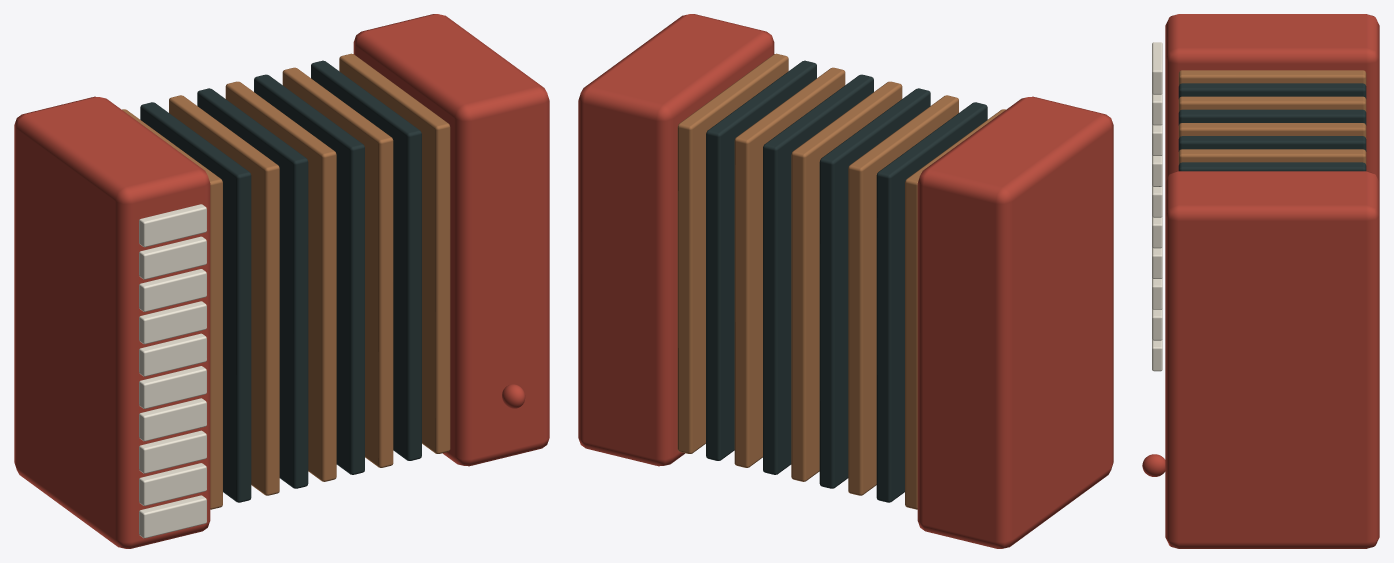
The model's file is wp-accordeon.glb.
The picture shows the model from 3 angles, left to right: view 1: azimuth 30°, elevation 25°; view 2: azimuth 150°, elevation 25°; view 3: azimuth 270°, elevation 25°; orthographic projection. The views are drawn at different scales.
Parts seen in each view (by area): view 1: wp-accordeon; view 2: wp-accordeon; view 3: wp-accordeon.
Boxes of the visible parts, box(x1,y1,x2,y2) form: wp-accordeon: box(14, 14, 549, 548); wp-accordeon: box(578, 14, 1113, 548); wp-accordeon: box(1142, 14, 1379, 548).
Bounding box in the file's own units: 0.5 × 0.4 × 0.25.
